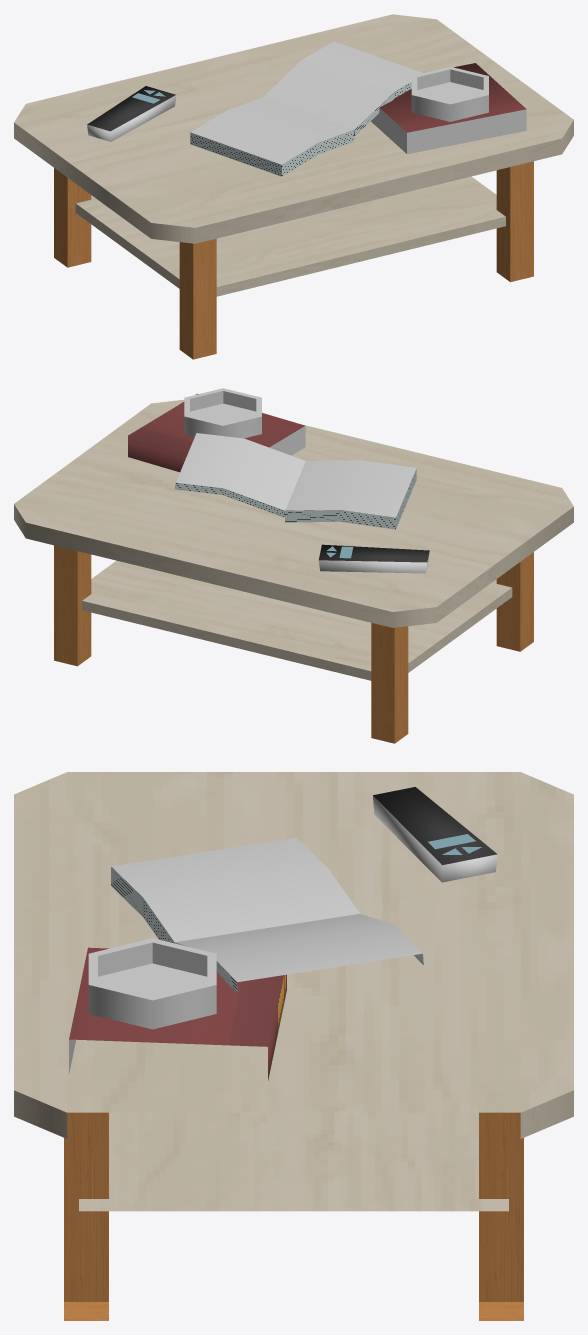
File: interior_A_006.fbx
3 renders of one model, top to bottom at view 1: azimuth 30°, elevation 25°; view 2: azimuth 150°, elevation 25°; view 3: azimuth 270°, elevation 25°, orthographic. The views are drawn at different scales.
Parts seen in each view (by area): view 1: interior_A_006; view 2: interior_A_006; view 3: interior_A_006.
Part boxes in pixels (x1=…): interior_A_006: x1=14, y1=14, x2=573, y2=359; interior_A_006: x1=14, y1=388, x2=573, y2=743; interior_A_006: x1=14, y1=772, x2=573, y2=1320.
Size of the model in its own units: 110 by 45.98 by 76.3.
